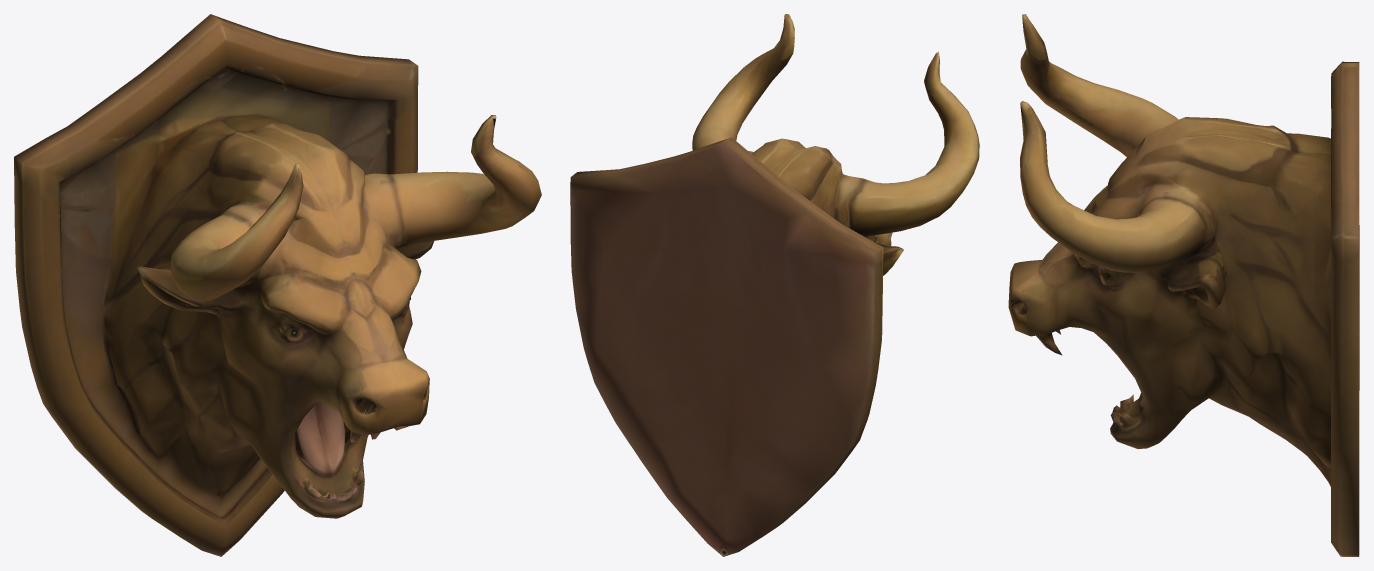
Rendered from Bull_Roaring_Majesty_0728200338_texture.fbx.
3 views of the same model, side by side, from view 1: azimuth 30°, elevation 25°; view 2: azimuth 150°, elevation 25°; view 3: azimuth 270°, elevation 25° (orthographic). The views are drawn at different scales.
Parts seen in each view (by area): view 1: input; view 2: input; view 3: input.
Part boxes in pixels (left/top/right/bottom): input: left=14, top=14, right=541, bottom=556; input: left=570, top=14, right=979, bottom=556; input: left=1008, top=14, right=1359, bottom=556.
Bounding box in the file's own units: 152 × 200 × 127.
Materials: 1 (1 with a texture image).
